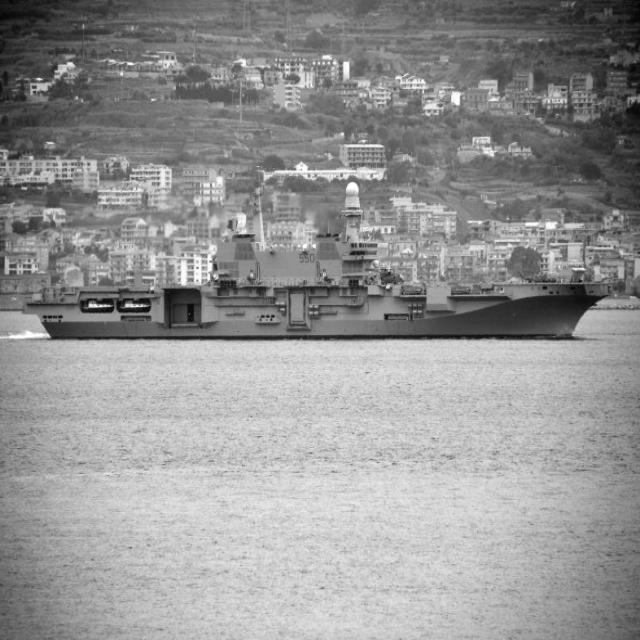Portanaves: (23, 176, 617, 344)
